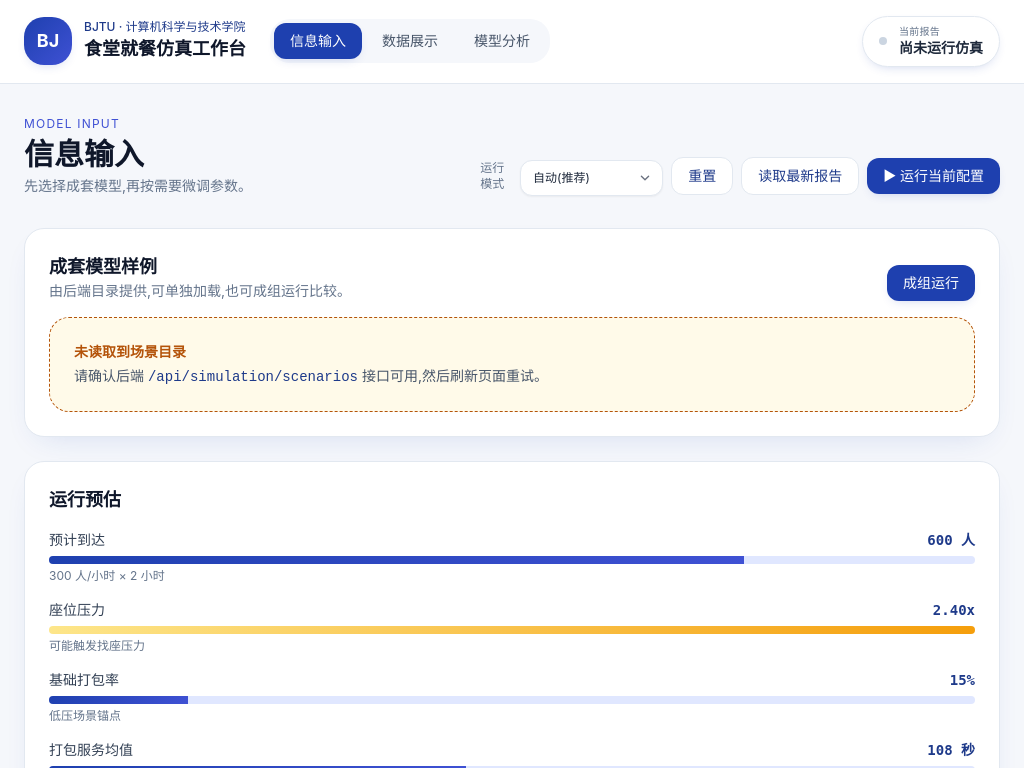
it: App 异步 happy path › runMode=async → 提交 → polling COMPLETED → getReportById → DisplayPage
The width and height of the screenshot is (1024, 768).
Select "异步(适合大仿真)" in the dropdown with test id "run-mode-select". click: (592, 178)
box: [520, 160, 663, 196]
(page scrolled)
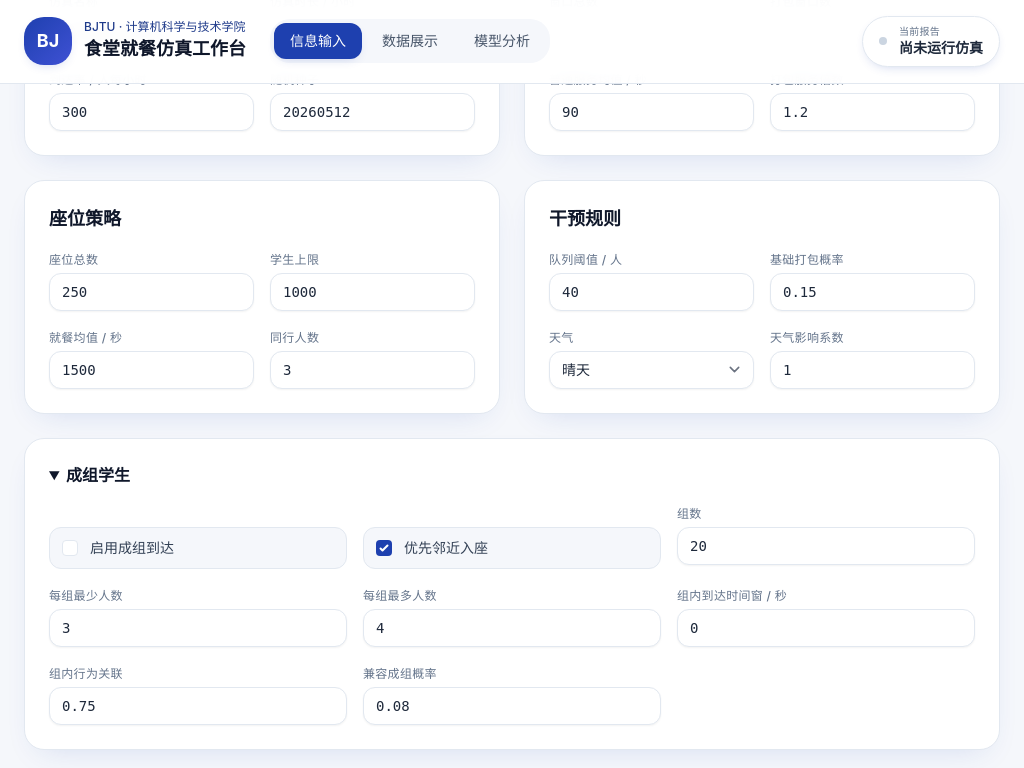
Submit the form with id "single-run-form"
Wait 1000 ms
(page scrolled)
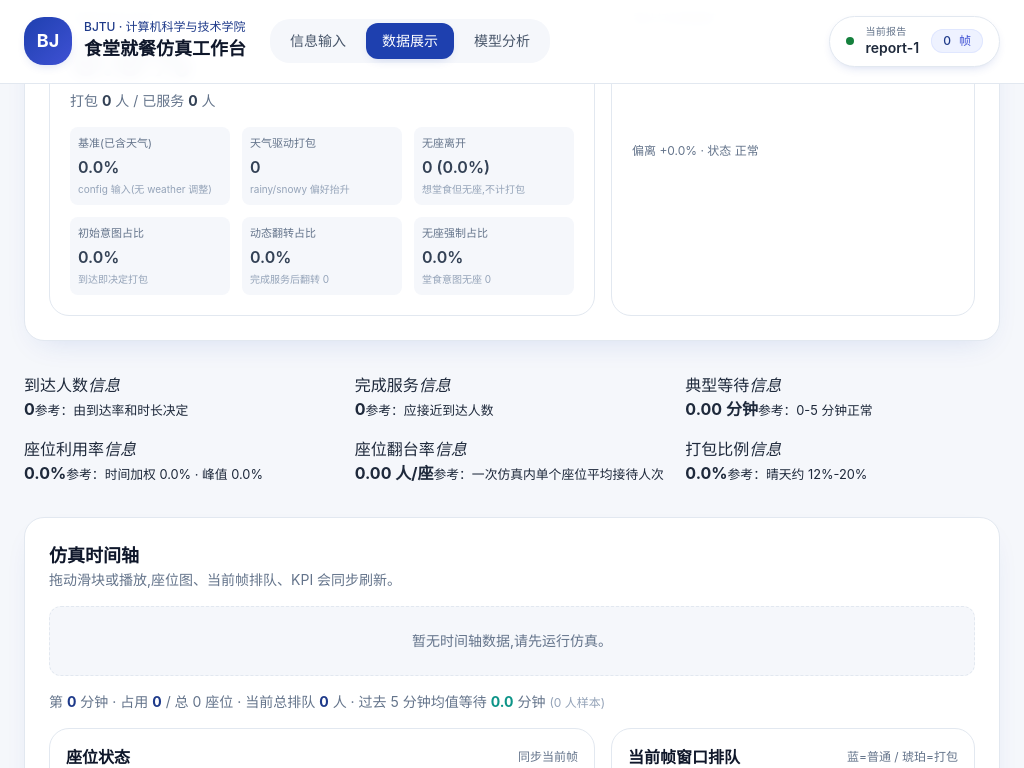
Expected: the text "到达人数" is shown, [24, 374, 88, 394]
